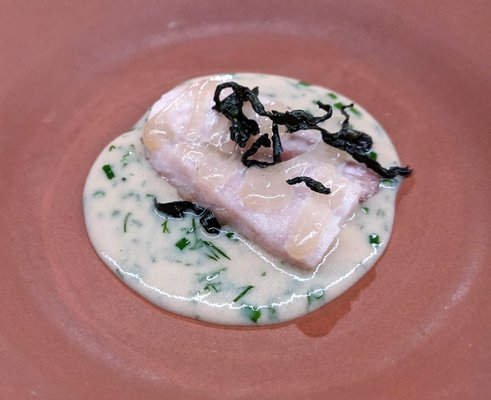curry: (1, 1, 486, 393)
